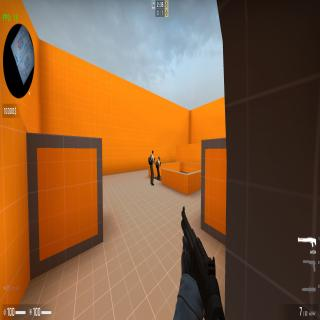T-Body: (149, 150, 155, 186), (156, 156, 160, 182)
T-Head: (158, 156, 160, 161), (152, 150, 153, 156)
